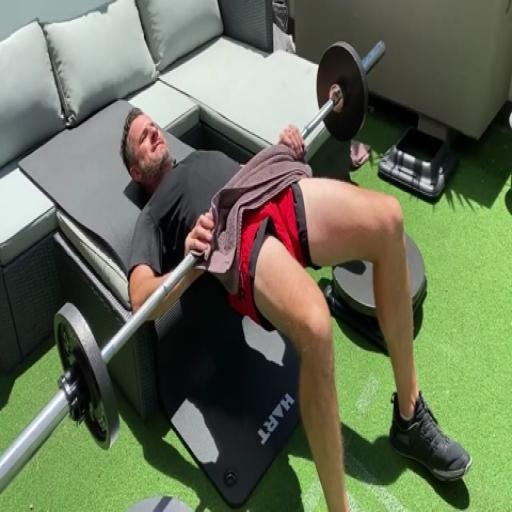exercise: (117, 104, 474, 510)
